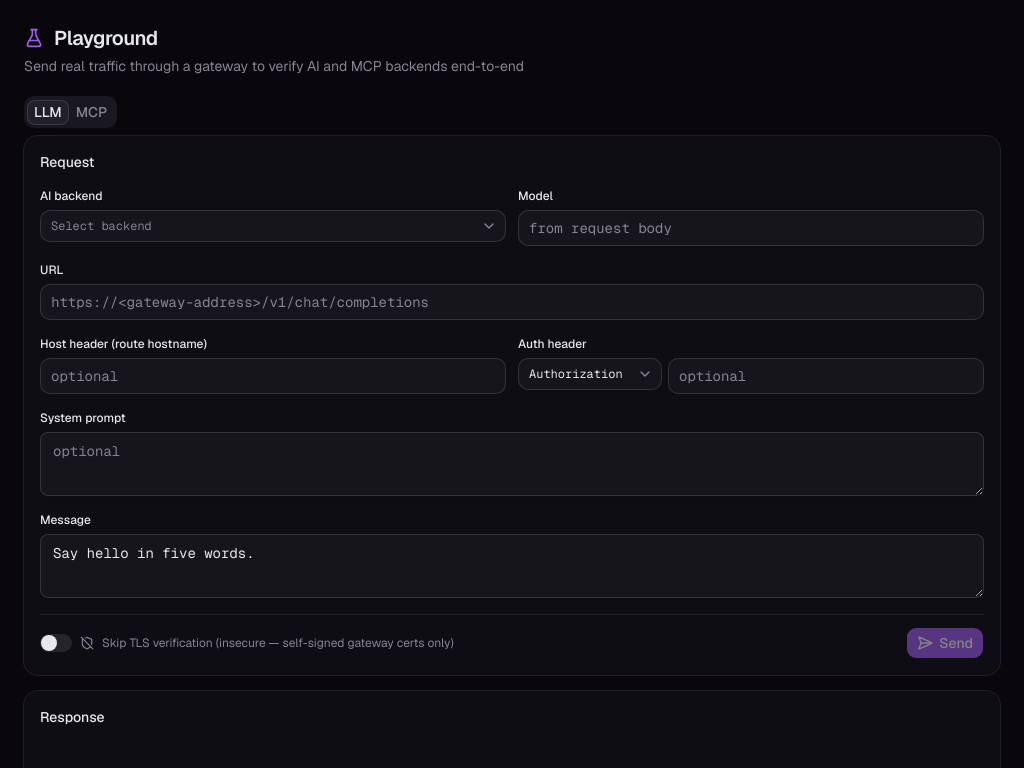
Test: PlaygroundPage › defaults to the LLM tab and switches to the MCP panel
The image size is (1024, 768).
Check: the tab "LLM" is shown, box [27,100,69,124]
Check: the text "Playground" is shown, box [24,25,158,51]
Click the tab "MCP". click: {"x": 92, "y": 112}
box: [69,100,114,124]
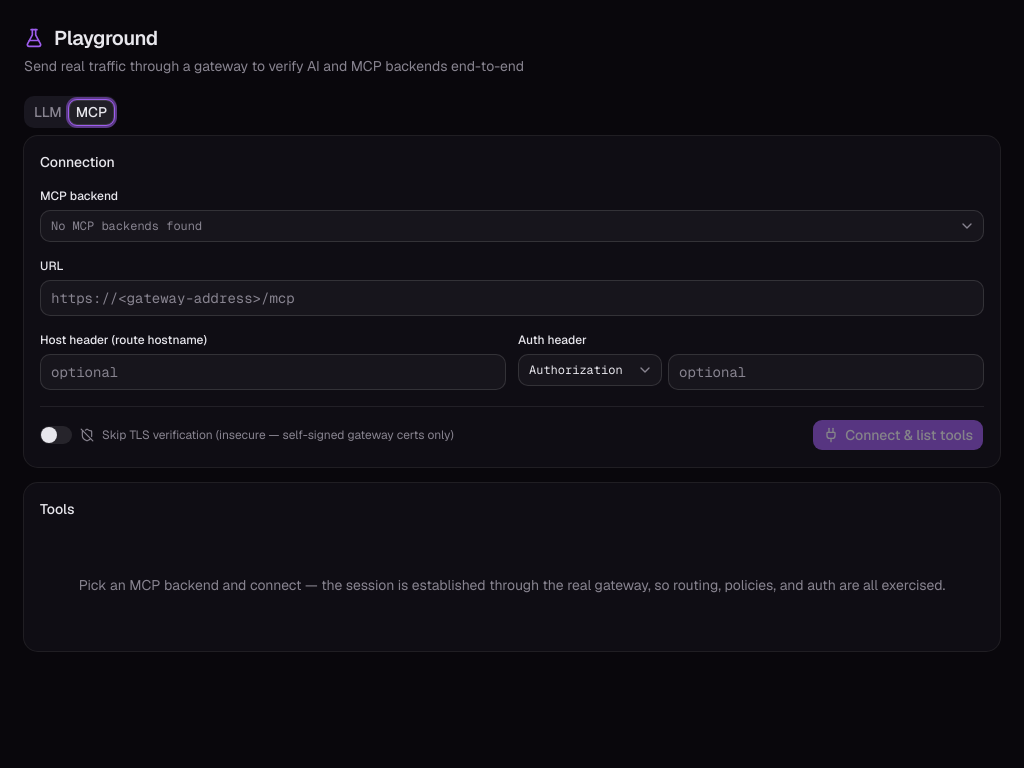
Check: the text "No MCP backends found" is shown, box [51,218,202,234]
